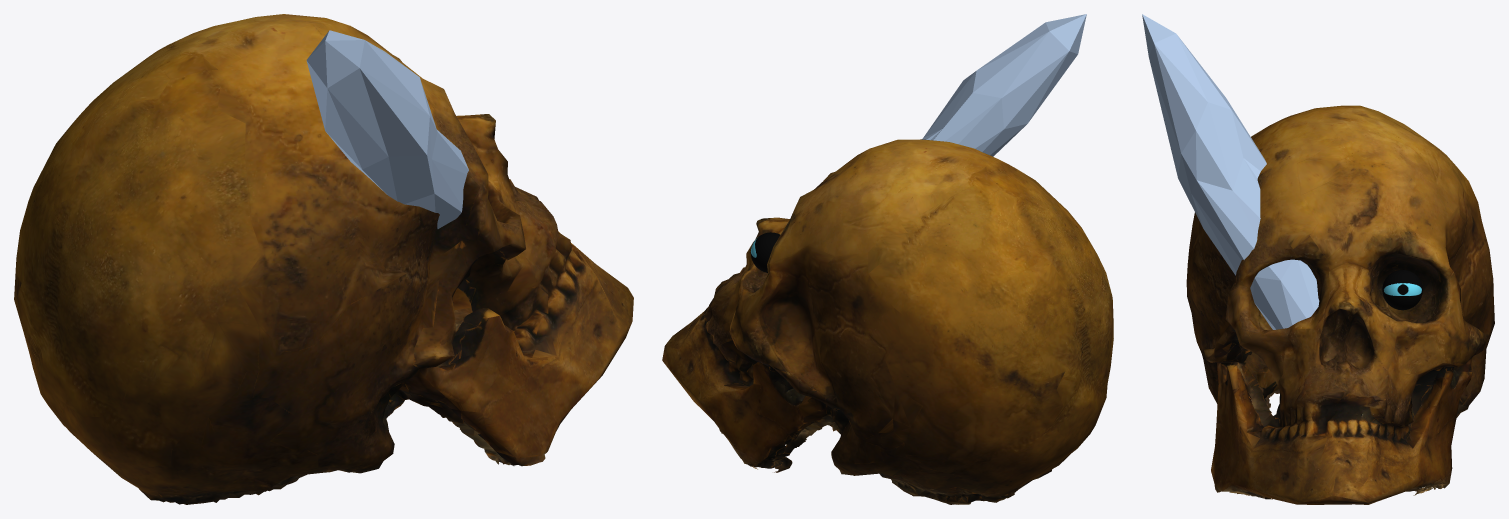
Rendered from kaycee3.fbx.
The picture shows the model from 3 angles, left to right: view 1: azimuth 30°, elevation 25°; view 2: azimuth 150°, elevation 25°; view 3: azimuth 270°, elevation 25°; orthographic projection. The views are drawn at different scales.
Parts seen in each view (by area): view 1: Skull, Icosphere; view 2: Skull, Icosphere, Eyeball_Right; view 3: Skull, Icosphere, Eyeball_Right.
Boxes of the visible parts, x1=… form: Skull: x1=14, y1=14, x2=633, y2=504; Icosphere: x1=306, y1=30, x2=468, y2=228; Skull: x1=662, y1=139, x2=1113, y2=504; Icosphere: x1=922, y1=14, x2=1086, y2=156; Eyeball_Right: x1=750, y1=232, x2=780, y2=272; Skull: x1=1186, y1=105, x2=1494, y2=504; Icosphere: x1=1142, y1=14, x2=1319, y2=329; Eyeball_Right: x1=1382, y1=269, x2=1422, y2=310.
Bounding box in the file's own units: 357 × 317 × 260.
